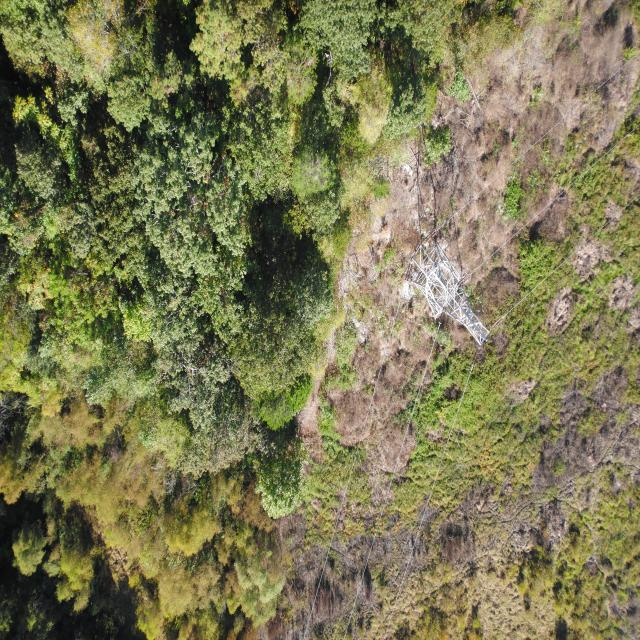Area of Interest: (10, 6, 480, 614)
